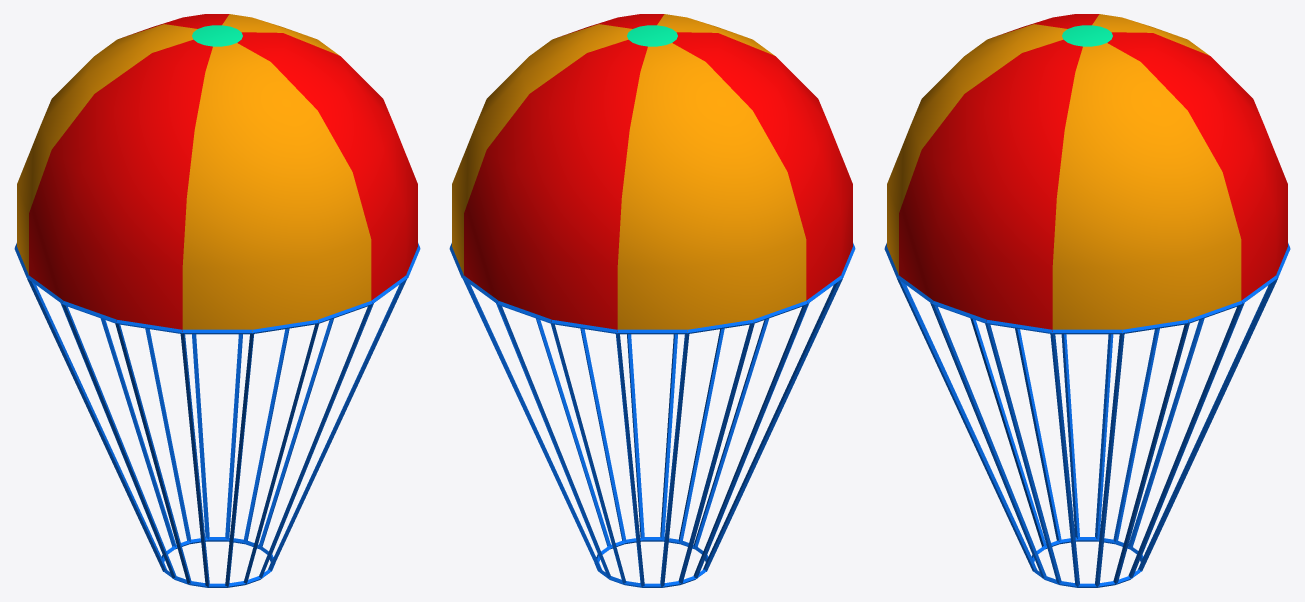
The model's file is Parachute.FBX.
3 views of the same model, side by side, from view 1: azimuth 30°, elevation 25°; view 2: azimuth 150°, elevation 25°; view 3: azimuth 270°, elevation 25° (orthographic).
Visible parts, largest first — view 1: ParachuteHalfSphere; view 2: ParachuteHalfSphere; view 3: ParachuteHalfSphere.
Boxes of the visible parts, x1,y1,x2,y2 form: ParachuteHalfSphere: (14,14,420,587); ParachuteHalfSphere: (449,14,855,587); ParachuteHalfSphere: (884,14,1290,587).
Size of the model in its own units: 49.09 by 71.61 by 49.83.
